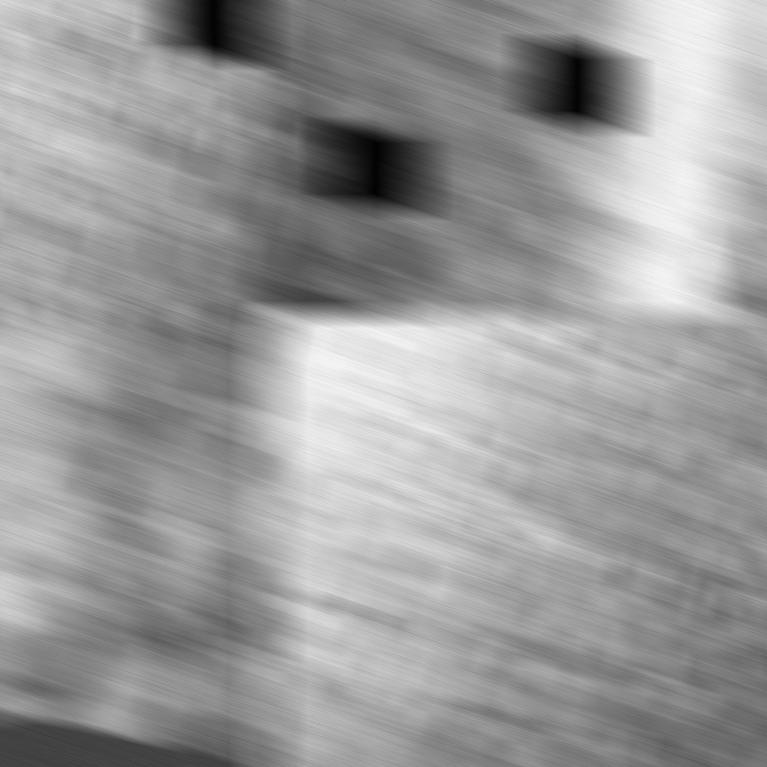Airbag: (258, 311, 767, 767), (258, 0, 767, 317), (0, 311, 277, 767), (0, 0, 277, 317)
